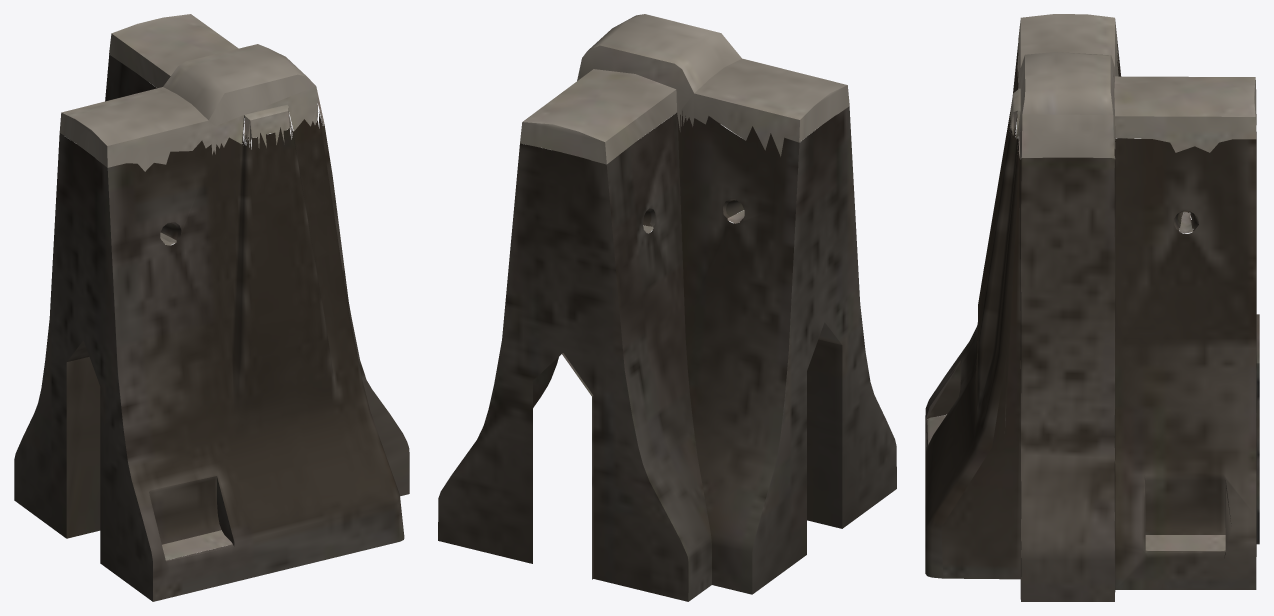
File: stone-wall-nw.glb
The picture shows the model from 3 angles, left to right: view 1: azimuth 30°, elevation 25°; view 2: azimuth 150°, elevation 25°; view 3: azimuth 270°, elevation 25°; orthographic projection. The views are drawn at different scales.
Parts seen in each view (by area): view 1: body; view 2: body; view 3: body.
Part boxes in pixels (bbox=[...]): body: bbox=[14, 14, 409, 601]; body: bbox=[438, 14, 896, 601]; body: bbox=[925, 14, 1259, 601].
Size of the model in its own units: 0.9379 by 1.32 by 0.8718.
1 material, 1 textured.
